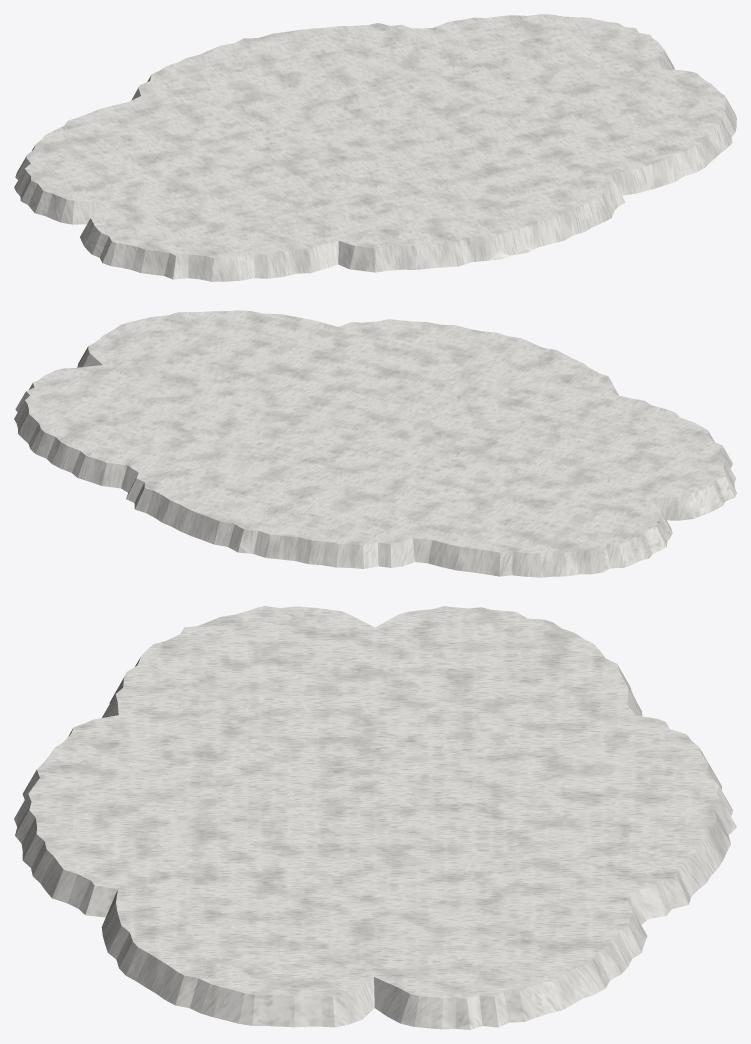
The model's file is rug-shag-cloud.glb.
The picture shows the model from 3 angles, top to bottom: view 1: azimuth 30°, elevation 25°; view 2: azimuth 150°, elevation 25°; view 3: azimuth 270°, elevation 25°; orthographic projection. The views are drawn at different scales.
Visible parts, largest first — view 1: rug-shag-cloud; view 2: rug-shag-cloud; view 3: rug-shag-cloud.
Part boxes in pixels (<box>): rug-shag-cloud: <box>14,14,736,281</box>; rug-shag-cloud: <box>14,310,736,577</box>; rug-shag-cloud: <box>14,606,736,1029</box>.
Bounding box in the file's own units: 1.2 × 0.035 × 0.9095.
Materials: 1 (1 with a texture image).
